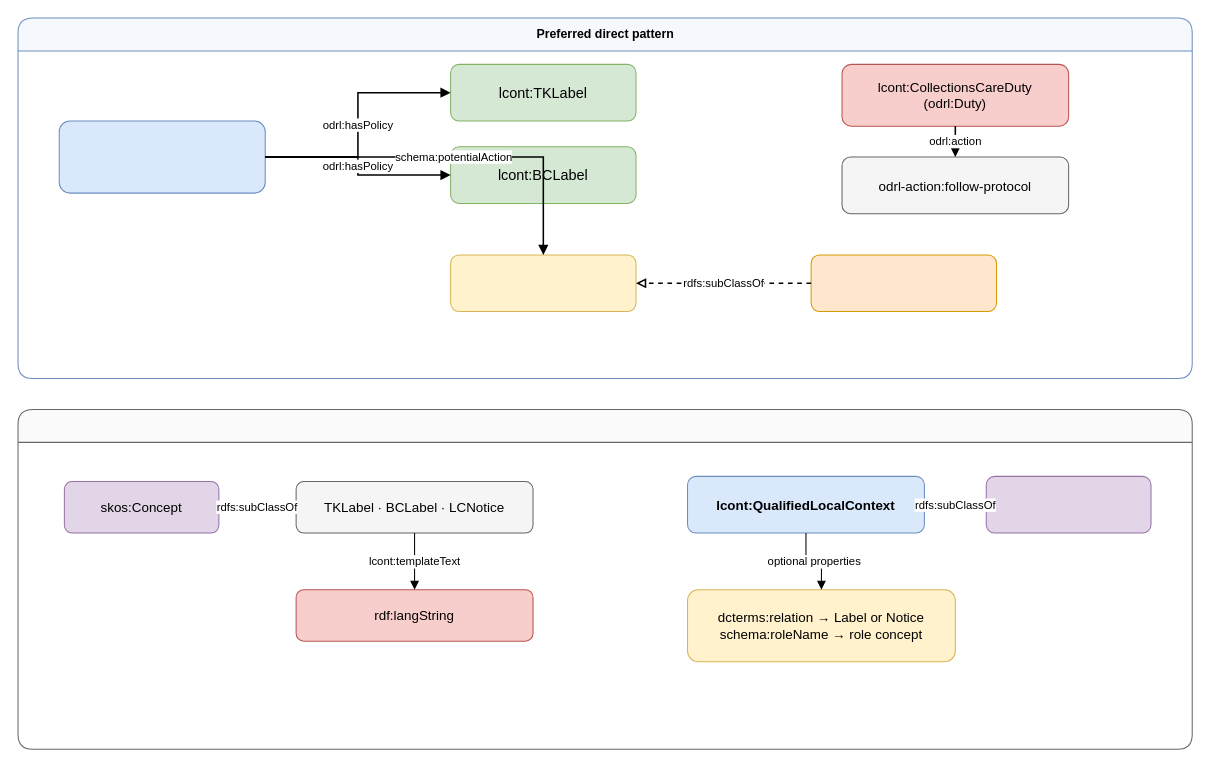
Some shapes in this 1210 by 767 pixel diagram are drawn without their labels. The shapes that lost their labels are listed below. From the top down, each one's box as (x1, y1, x2, y2) in pixels, then its label:
(58, 120, 265, 193): schema:CreativeWork (catalogued resource)
(450, 254, 636, 312): lcont:LCNotice
(810, 254, 997, 312): lcont:CCNotice
(985, 475, 1151, 533): dcat:Relationship
(17, 408, 1192, 749): Supporting vocabulary and optional qualification
